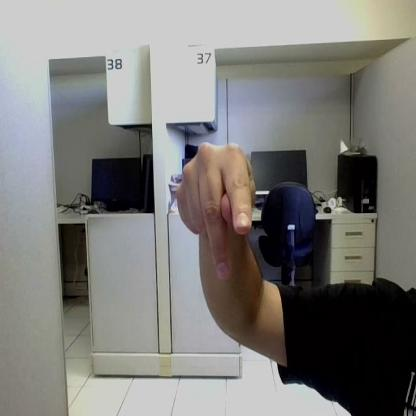P: (177, 143, 255, 280)
